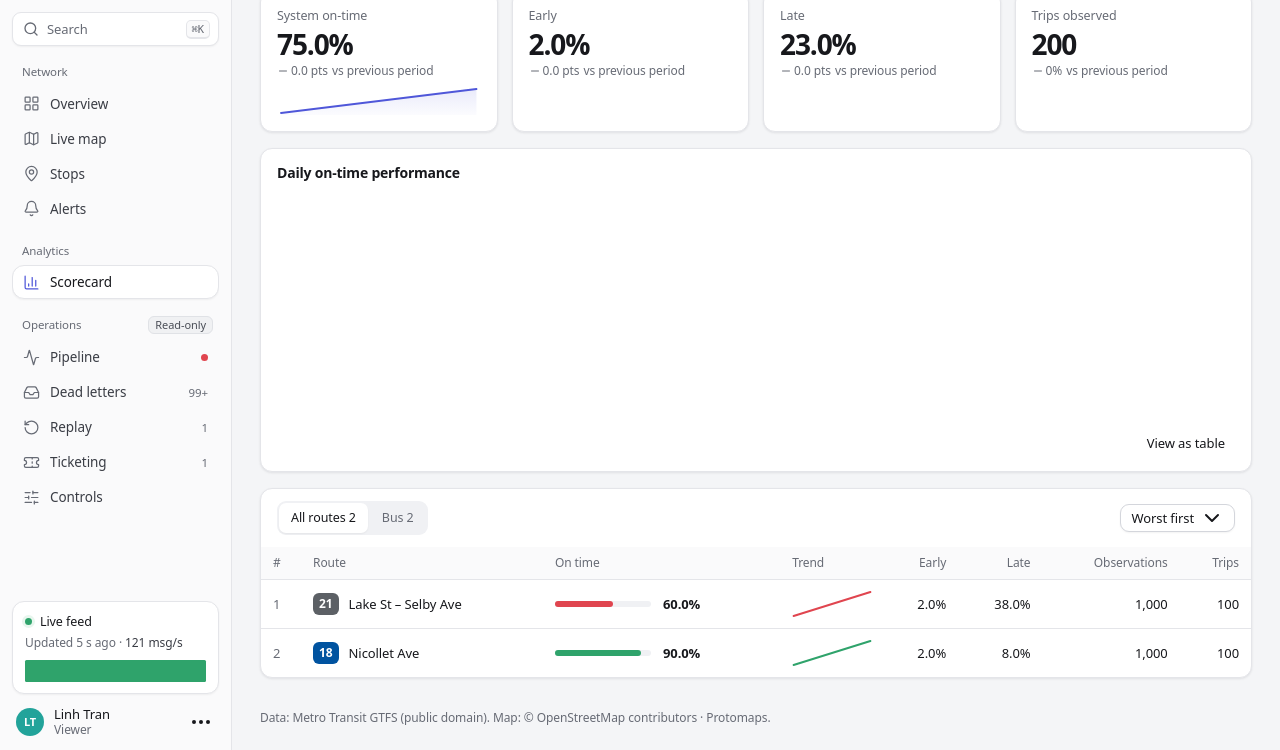
Scenario: Route scorecard › AC-7 opens the route drawer from a row, and "Open route details" keeps the range
(page scrolled)
Click the row "2 18 Nicollet Ave 90.0% 2.0% 8.0% 1,000 100" at {"x": 384, "y": 652}, box [261,628,1251,677]
(page scrolled)
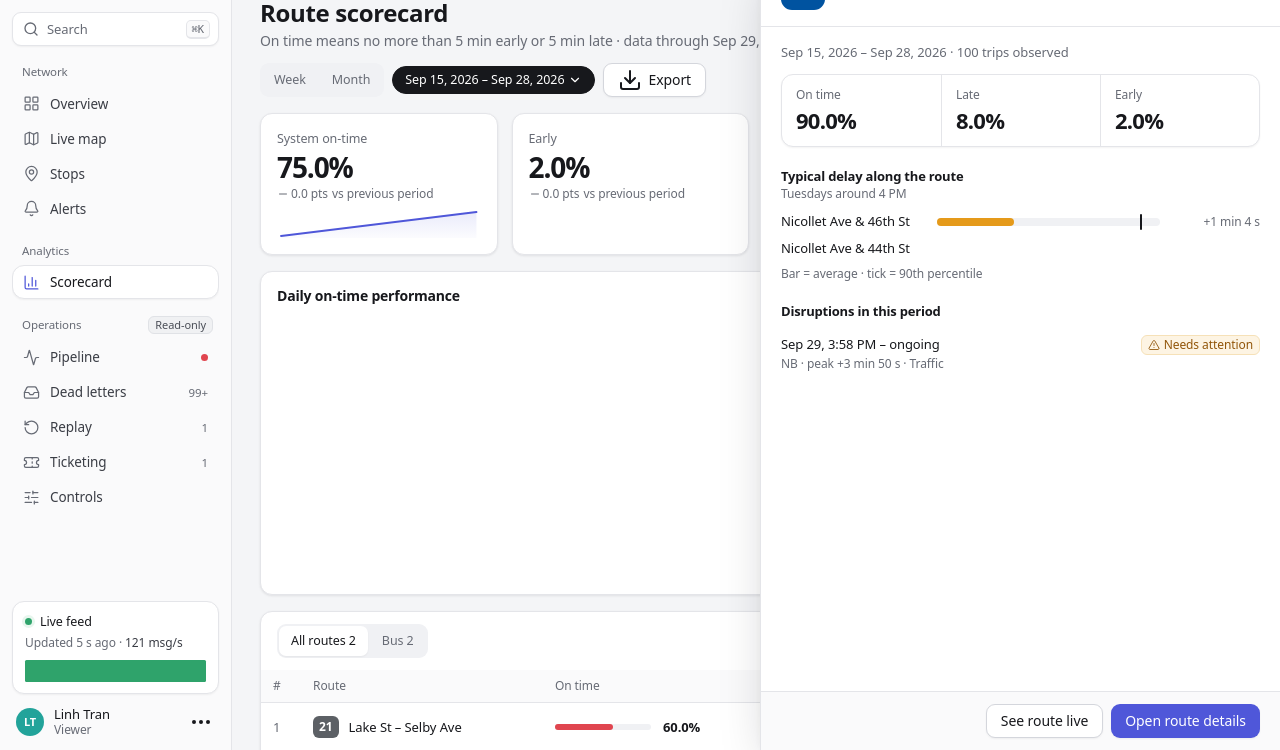
Now the heading "Typical delay along the route" is shown, box [781,168,963,186]
Now the picture named "Nicollet Ave & 46th St: average +1 min 4 s" is shown, box [937,218,1160,226]
Now the heading "Disruptions in this period" is shown, box [781,302,941,320]
